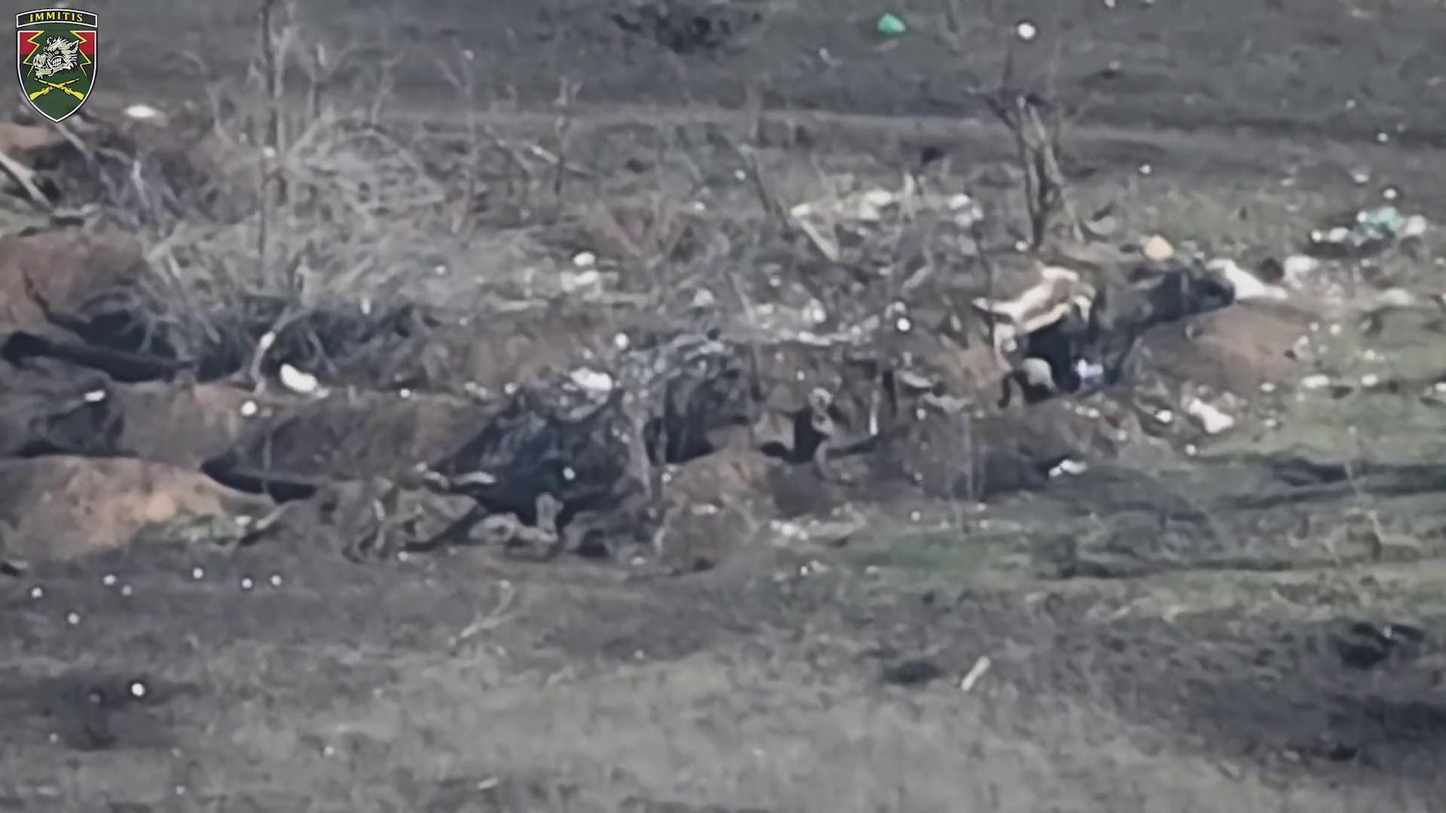trench: (0, 187, 1391, 576)
